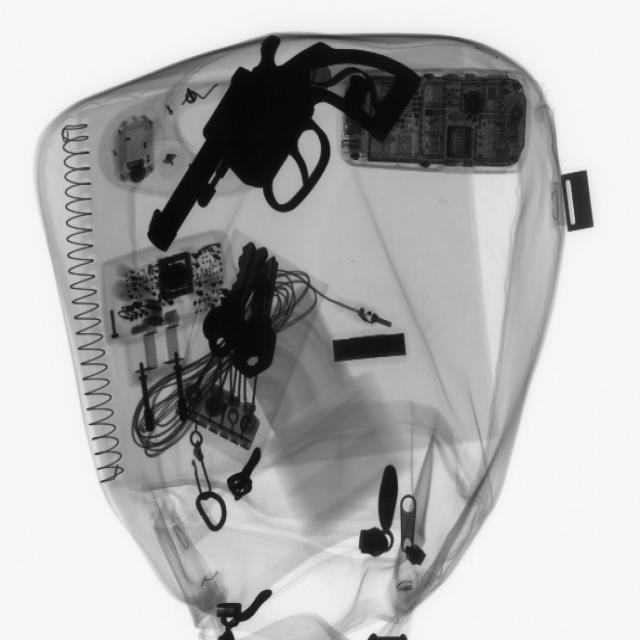GUN: (153, 33, 415, 263)
